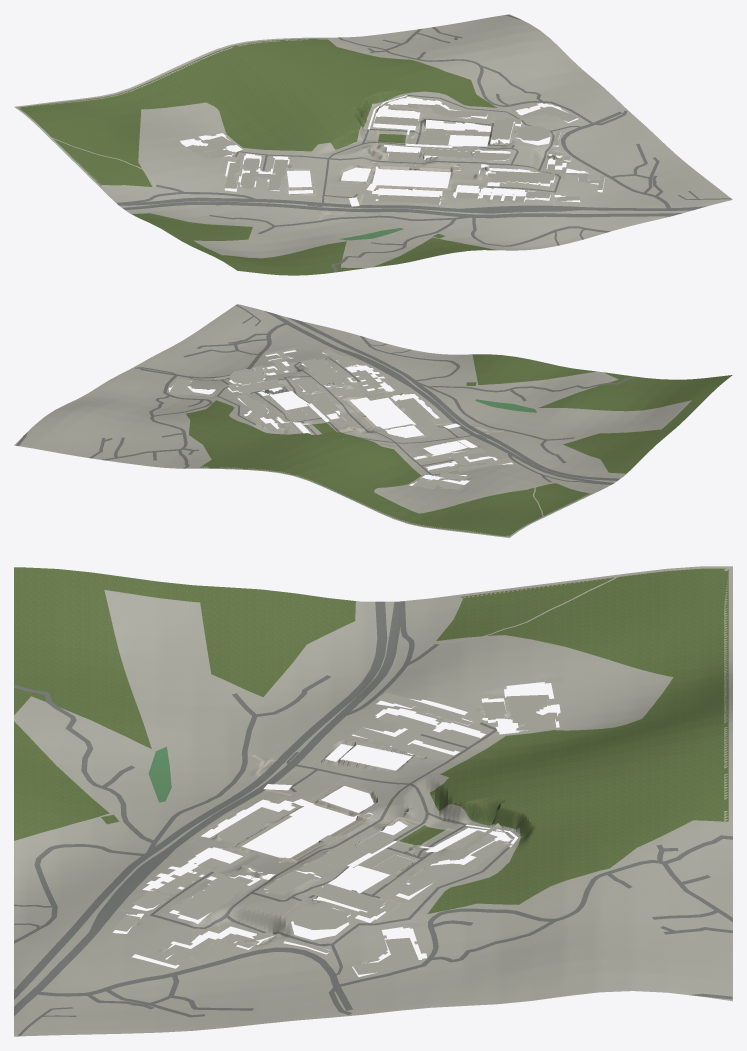
3 views of the same model, one above another, from view 1: azimuth 30°, elevation 25°; view 2: azimuth 150°, elevation 25°; view 3: azimuth 270°, elevation 25° (orthographic). The views are drawn at different scales.
Parts seen in each view (by area): view 1: kookmin-base, kookmin-wood, kookmin-asphalt, kookmin-paving, kookmin-graniteLight; view 2: kookmin-base, kookmin-wood, kookmin-asphalt, kookmin-paving; view 3: kookmin-base, kookmin-wood, kookmin-asphalt, kookmin-paving, kookmin-courtGreen.
Boxes of the visible parts, bbox=[...] form: kookmin-base: bbox=[14, 14, 732, 267]; kookmin-wood: bbox=[18, 38, 496, 275]; kookmin-asphalt: bbox=[116, 14, 731, 272]; kookmin-paving: bbox=[49, 116, 595, 207]; kookmin-graniteLight: bbox=[319, 127, 457, 221]; kookmin-base: bbox=[14, 304, 691, 537]; kookmin-wood: bbox=[186, 354, 732, 536]; kookmin-asphalt: bbox=[16, 304, 634, 484]; kookmin-paving: bbox=[189, 354, 551, 517]; kookmin-base: bbox=[14, 566, 732, 1036]; kookmin-wood: bbox=[14, 567, 728, 913]; kookmin-asphalt: bbox=[14, 601, 732, 1036]; kookmin-paving: bbox=[116, 574, 620, 964]; kookmin-courtGreen: bbox=[148, 746, 171, 802].
Bounding box in the file's own units: 840 × 102 × 656.
11 materials, 8 textured.
